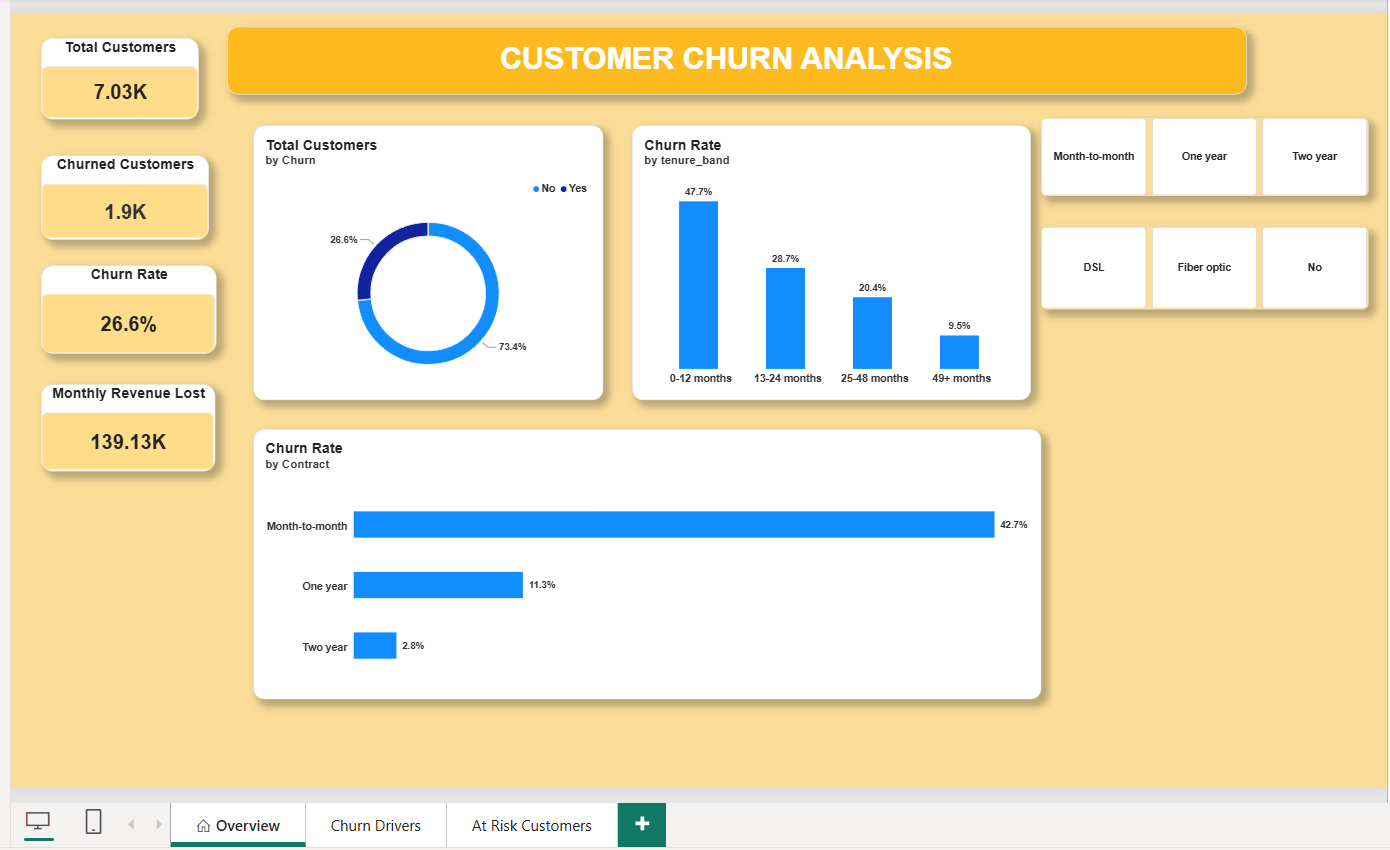

What the dashboard file says about the page in this screenshot:
{"tool":"powerbi","page":{"name":"Overview","canvas":[1920,1080],"ordinal":0},"visuals":[{"type":"textbox","box":[302.6,18.5,1422.3,94.7],"z":0},{"type":"cardVisual","title":"Monthly Revenue Lost","fields":{"Data":["Churn_risk.Monthly Revenue Lost"]},"box":[41.2,518.7,242.9,121.4],"z":1000},{"type":"cardVisual","title":"Churn Rate","fields":{"Data":["Churn_risk.Churn Rate"]},"box":[41.2,352,244.9,123.5],"z":2000},{"type":"cardVisual","title":"Churned Customers","fields":{"Data":["Churn_risk.Churned Customers"]},"box":[41.2,199.7,234.6,117.3],"z":3000},{"type":"cardVisual","title":"Total Customers","fields":{"Data":["Churn_risk.Total Customers"]},"box":[41.2,35,220.2,113.2],"z":4000},{"type":"donutChart","fields":{"Category":["Churn_risk.Churn"],"Y":["Churn_risk.Total Customers"]},"box":[337.6,156.4,487.8,382.8],"z":5000},{"type":"clusteredColumnChart","fields":{"Category":["Churn_risk.tenure_band"],"Y":["Churn_risk.Churn Rate"]},"box":[866.6,156.4,555.7,382.8],"z":6000},{"type":"clusteredBarChart","fields":{"Category":["Churn_risk.Contract"],"Y":["Churn_risk.Churn Rate"]},"box":[337.6,580.4,1099.1,376.7],"z":7000},{"type":"advancedSlicerVisual","fields":{"Values":["Churn_risk.Contract"]},"box":[1436.7,146.1,456.9,109.1],"z":8000},{"type":"advancedSlicerVisual","fields":{"Values":["Churn_risk.InternetService"]},"box":[1436.7,298.5,456.9,115.3],"z":9000}]}

Visuals, with their boxes on the page's 1920x1080 design canvas (x1, y1, x2, y2). These are canvas units, not pixel positions in the 1390x850 screenshot, which may show the page scaled, cropped or inside an application window:
textbox: (303, 18, 1725, 113)
"Monthly Revenue Lost" cardVisual: (41, 519, 284, 640)
"Churn Rate" cardVisual: (41, 352, 286, 476)
"Churned Customers" cardVisual: (41, 200, 276, 317)
"Total Customers" cardVisual: (41, 35, 261, 148)
donutChart - Churn_risk.Churn x Churn_risk.Total Customers: (338, 156, 825, 539)
clusteredColumnChart - Churn_risk.tenure_band x Churn_risk.Churn Rate: (867, 156, 1422, 539)
clusteredBarChart - Churn_risk.Contract x Churn_risk.Churn Rate: (338, 580, 1437, 957)
advancedSlicerVisual - Churn_risk.Contract: (1437, 146, 1894, 255)
advancedSlicerVisual - Churn_risk.InternetService: (1437, 298, 1894, 414)
